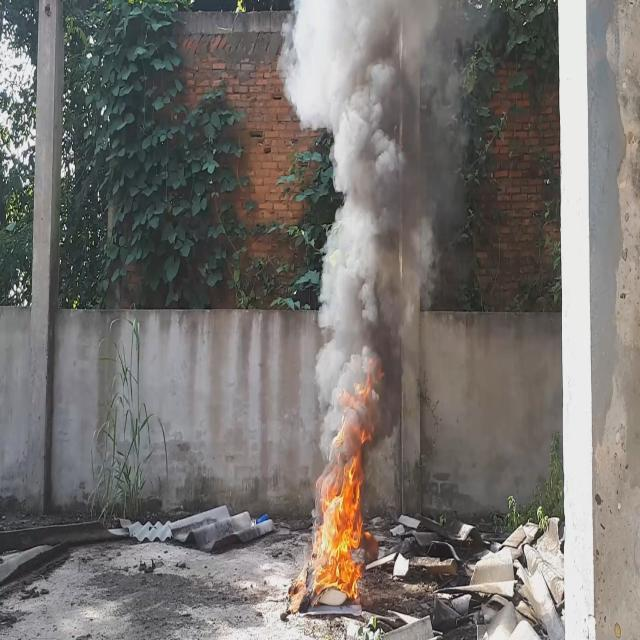Fire: (310, 362, 386, 601)
Smoke: (274, 0, 443, 476)
